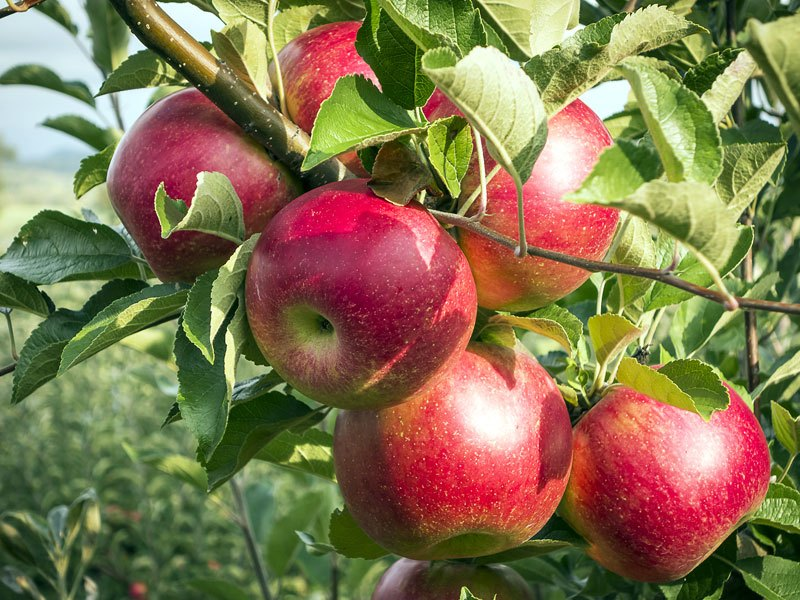elma: (244, 178, 476, 406), (330, 344, 573, 560), (417, 79, 623, 308), (563, 365, 771, 573)
